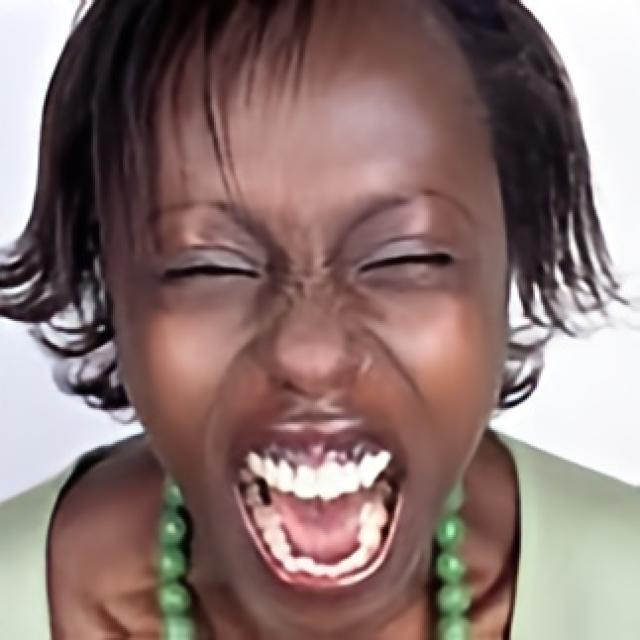anger: (116, 28, 508, 624)
